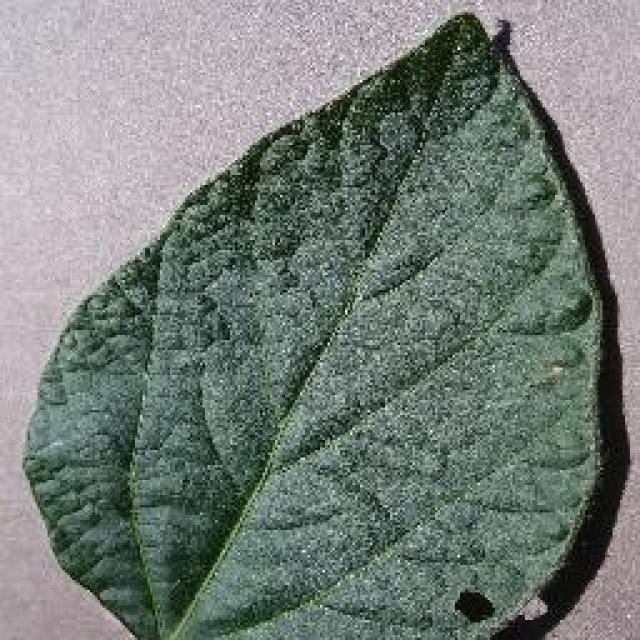Soy_healthy: (99, 84, 591, 603)
